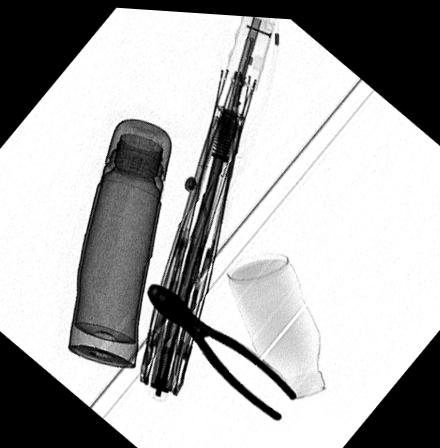Pliers: (145, 278, 300, 418)
